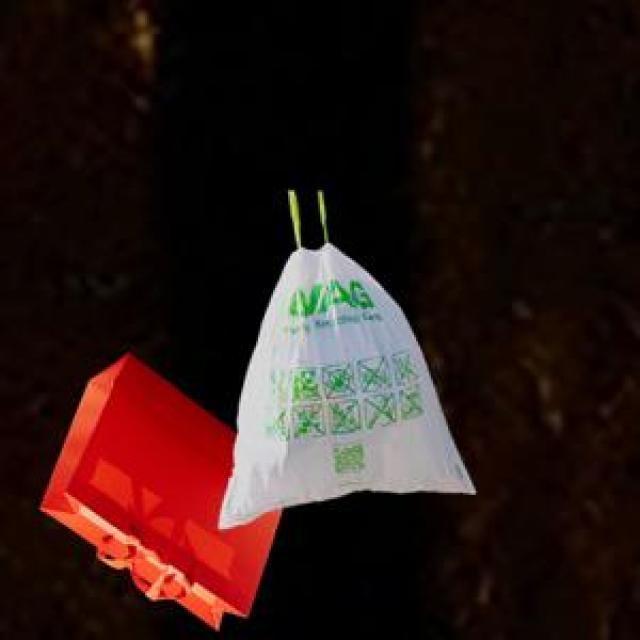paper: (36, 350, 277, 625)
